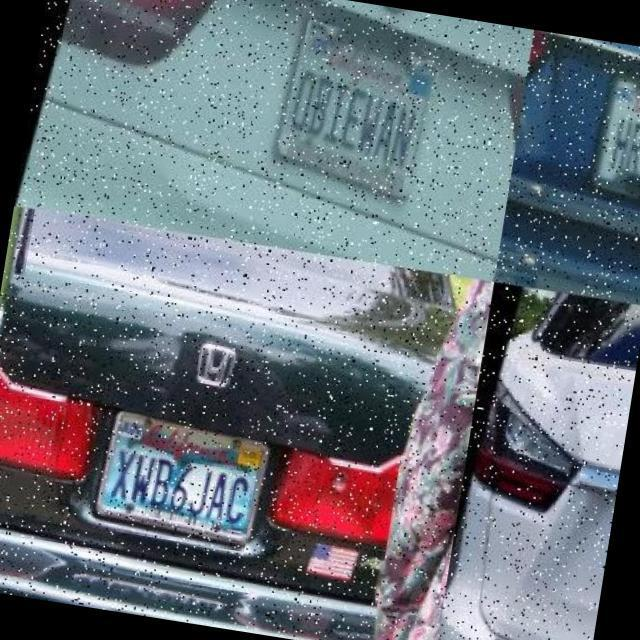License Plate: (270, 1, 456, 203), (94, 403, 280, 545), (592, 62, 640, 204)
